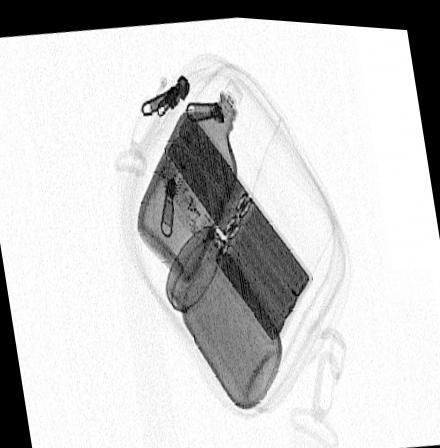Powerbank: (150, 102, 313, 343)
